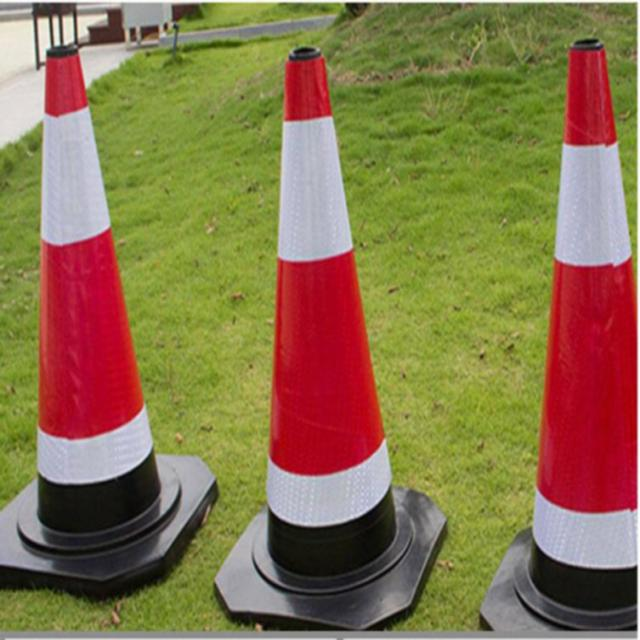reflective_cone: (211, 39, 449, 626), (0, 48, 215, 598), (476, 33, 638, 638)
